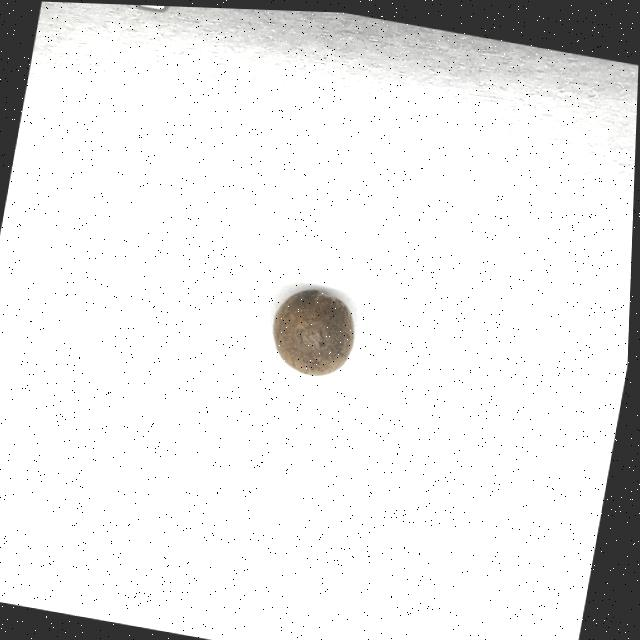Black: (267, 280, 366, 381)
